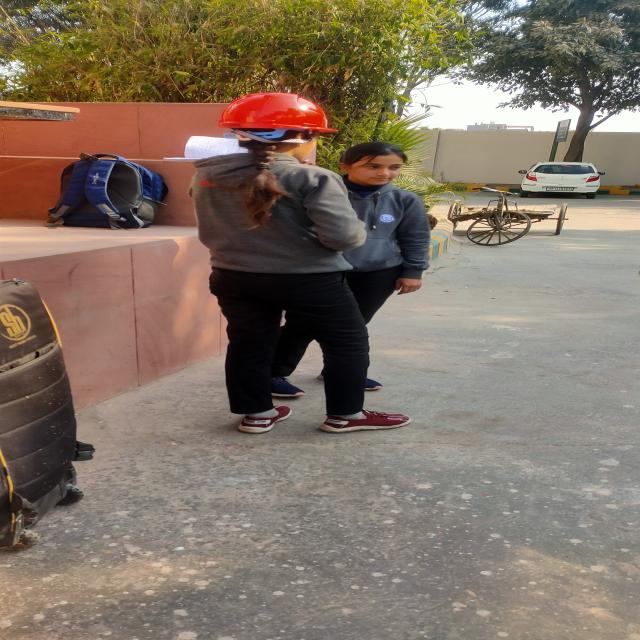no jacket: (193, 91, 397, 434)
unsafe: (340, 141, 429, 323)
